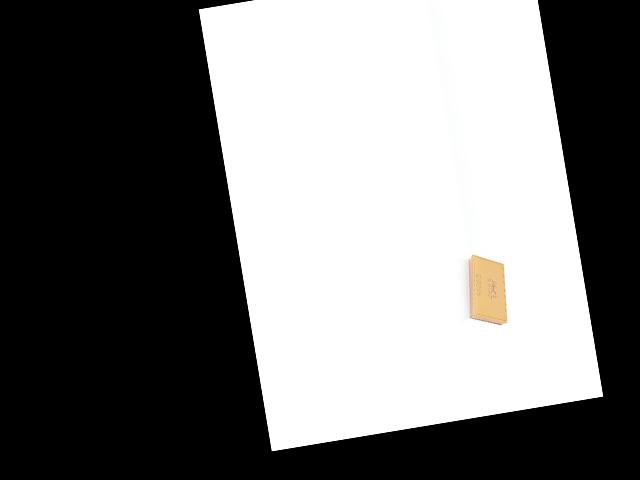chocolate: (453, 250, 516, 332)
